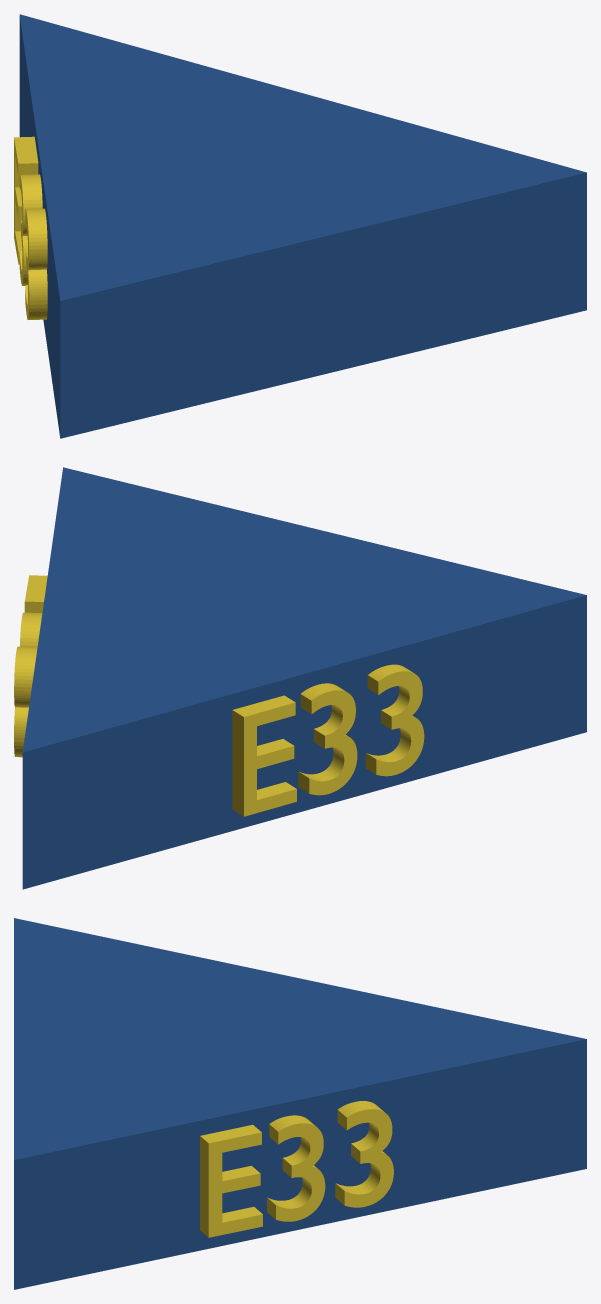
3 renders of one model, top to bottom at view 1: azimuth 30°, elevation 25°; view 2: azimuth 150°, elevation 25°; view 3: azimuth 270°, elevation 25°, orthographic. The views are drawn at different scales.
Visible parts, largest first — view 1: Cube, Text.001; view 2: Cube, Text.001, Text; view 3: Cube, Text.
Part boxes in pixels (box(x1,y1,x2,y2)): Cube: box(19, 14, 586, 438); Text.001: box(14, 136, 47, 319); Cube: box(22, 467, 586, 889); Text.001: box(232, 664, 424, 816); Text: box(14, 575, 47, 757); Cube: box(14, 918, 586, 1289); Text: box(200, 1101, 393, 1237).
Bounding box in the file's own units: 63.36 × 15.84 × 63.36.
